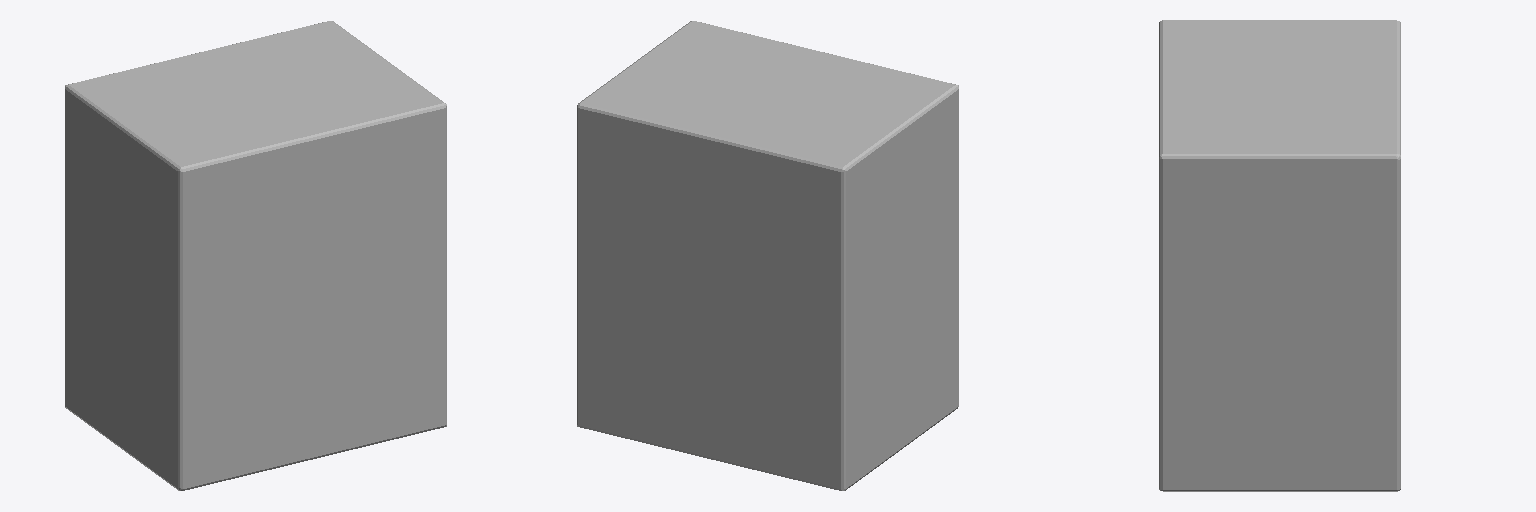
URDF robot description (root):
<?xml version="1.0"?>
<robot name="root">
  <link name="base_link">
    <visual>
      <origin xyz="0 0 0" rpy="0 0 0" />
      <geometry>
        <mesh filename="../meshes/unidex_sem_FileCabinet-976178c815f234b9df8fce61d01de43d_006.obj" scale="1.0000E+00 1.0000E+00 1.0000E+00" />
      </geometry>
      <material name="">
        <color rgba="7.50E-01 7.50E-01 7.50E-01 1" />
      </material>
    </visual>
    <collision>
      <origin xyz="0 0 0" rpy="0 0 0" />
      <geometry>
        <mesh filename="../meshes/unidex_sem_FileCabinet-976178c815f234b9df8fce61d01de43d_006.obj" scale="1.0000E+00 1.0000E+00 1.0000E+00" />
      </geometry>
    </collision>
  </link>
</robot>

--- What the picture shows (computed from the rendered views, not written in the file) ---
Views: 3 orthographic renders of the robot side by side, from view 1: azimuth 30°, elevation 25°; view 2: azimuth 150°, elevation 25°; view 3: azimuth 270°, elevation 25°.
Robot: root — 1 links, 0 joints (none); root link base_link; default pose: all joints at 0.
Links seen in each view (by area): view 1: base_link; view 2: base_link; view 3: base_link.
Boxes of the visible links, left/top/right/bottom form: base_link: left=65, top=21, right=446, bottom=490; base_link: left=577, top=21, right=958, bottom=490; base_link: left=1159, top=20, right=1400, bottom=491.
Bounding box of the posed robot: 0.0692 × 0.0519 × 0.0796 m (x, y, z).
1 mesh visuals loaded from 1 distinct referenced files (1 OBJ).
